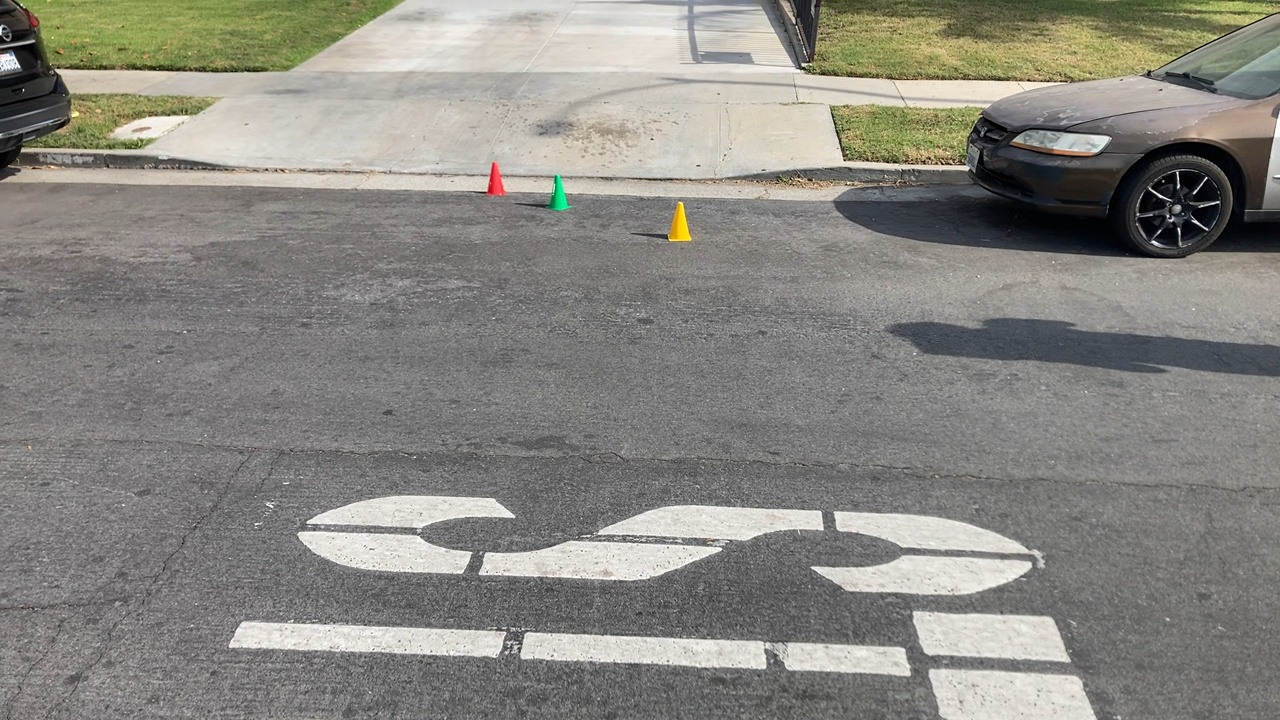green_cone: (542, 170, 573, 213)
red_cone: (484, 156, 512, 196)
yellow_cone: (663, 198, 691, 242)
